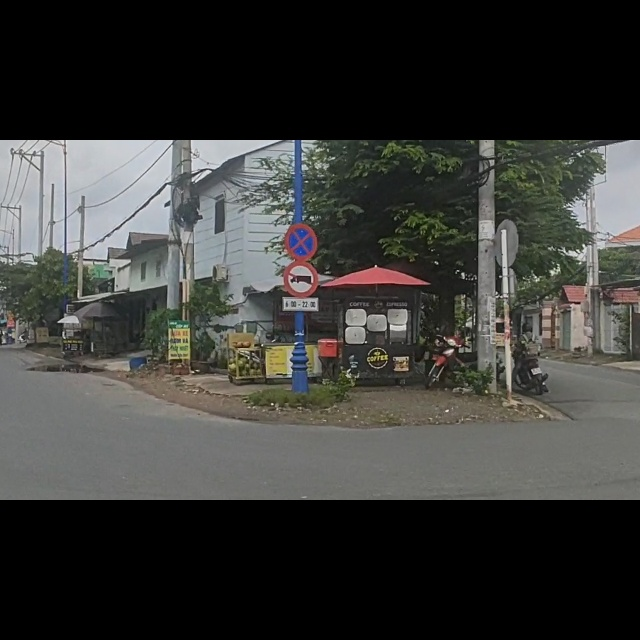bien_cam: (283, 216, 319, 281), (285, 147, 317, 213)
